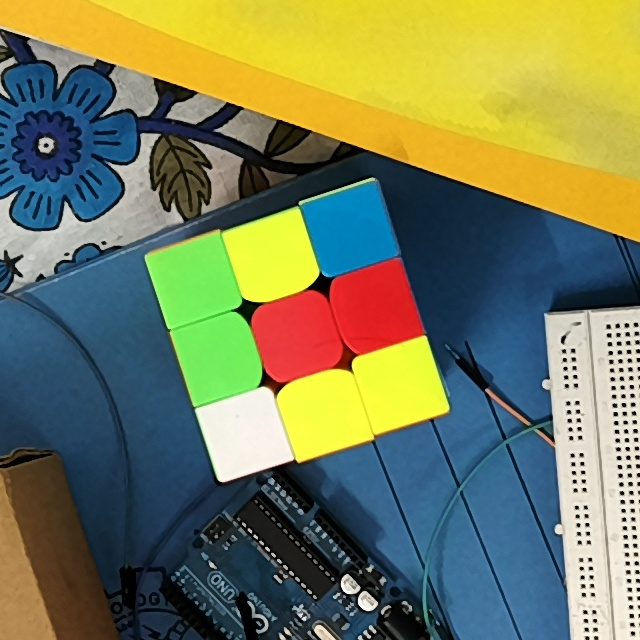tile: (266, 305, 329, 366), (343, 278, 404, 338), (243, 228, 302, 288), (370, 355, 431, 411), (324, 197, 379, 259), (164, 250, 224, 306), (189, 328, 246, 386), (216, 404, 274, 461), (294, 384, 353, 439)
